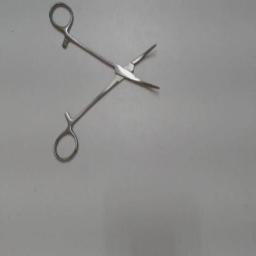Crile Artery Forceps: (47, 2, 163, 168)
